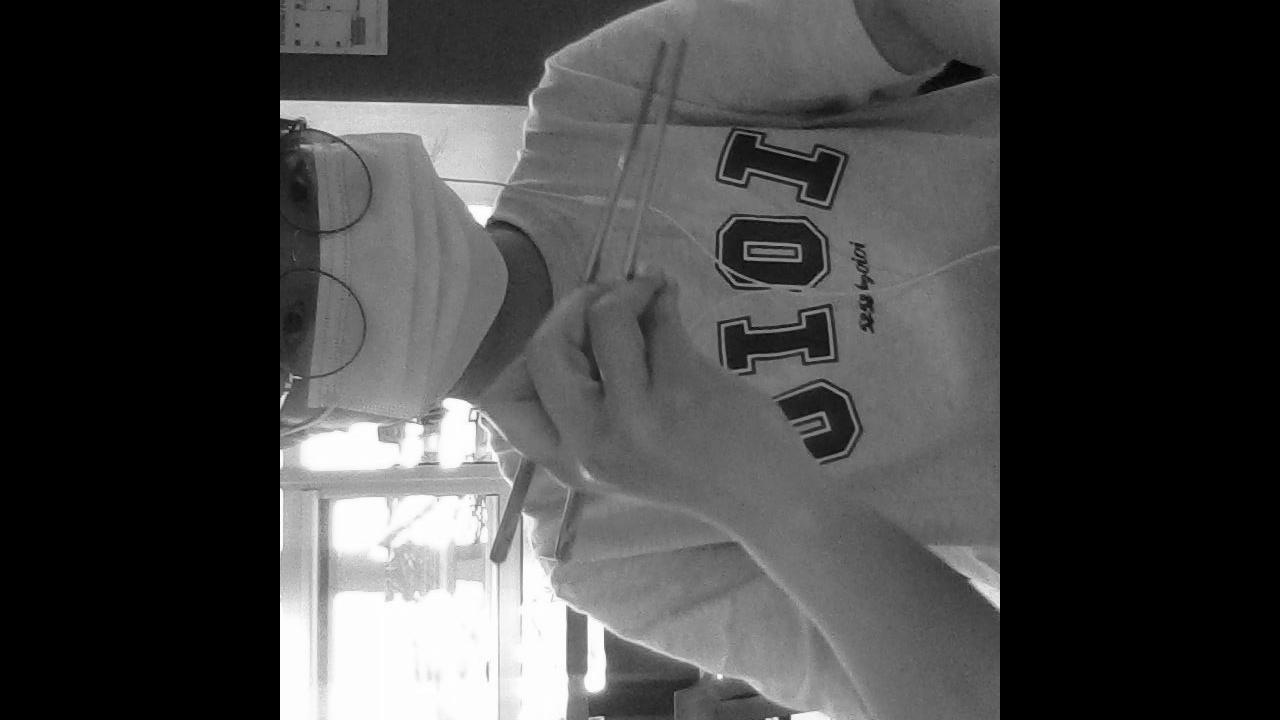chopstick: (484, 33, 673, 571), (549, 37, 694, 573)
hand: (481, 270, 811, 533)
